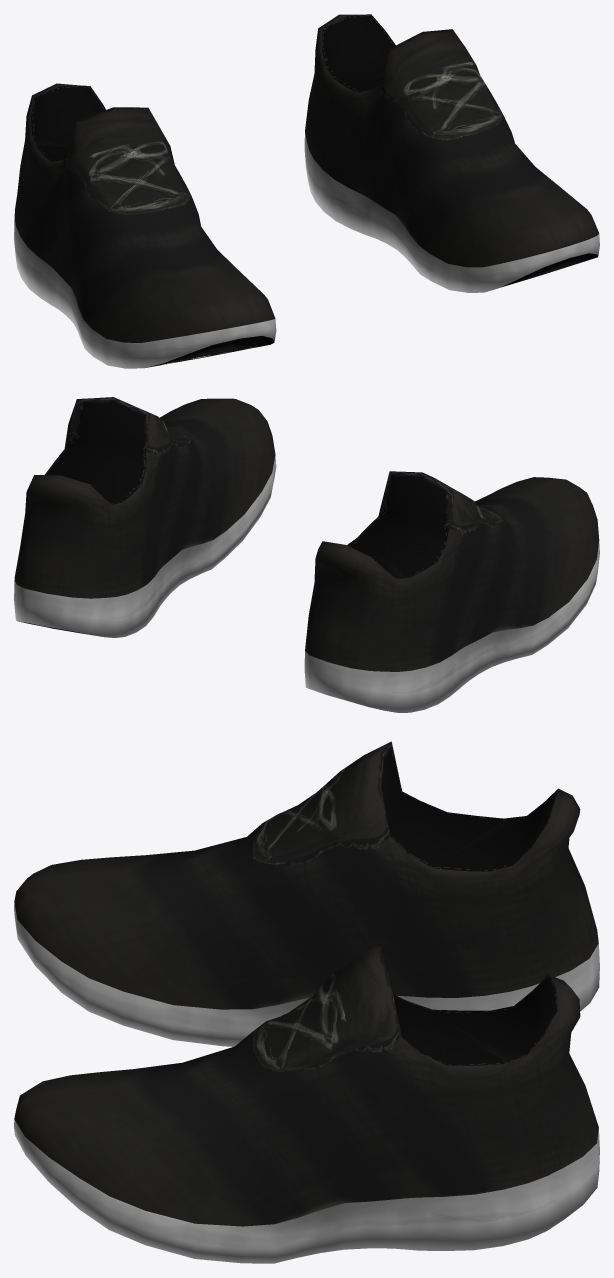
The model's file is sneakers.glb.
3 views of the same model, one above another, from view 1: azimuth 30°, elevation 25°; view 2: azimuth 150°, elevation 25°; view 3: azimuth 270°, elevation 25° (orthographic). The views are drawn at different scales.
Parts seen in each view (by area): view 1: Cube_Cube.001; view 2: Cube_Cube.001; view 3: Cube_Cube.001.
Part boxes in pixels (left/top/right/bottom): Cube_Cube.001: left=14, top=14, right=599, bottom=368; Cube_Cube.001: left=14, top=397, right=599, bottom=712; Cube_Cube.001: left=14, top=741, right=599, bottom=1263.
Bounding box in the file's own units: 0.3582 × 0.144 × 0.2904.
Materials: 1 (1 with a texture image).
